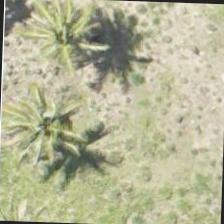Kelapa_Sawit: (4, 78, 97, 170), (20, 0, 114, 82)
